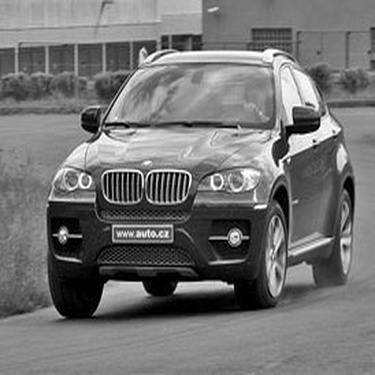car: (34, 31, 375, 314)
